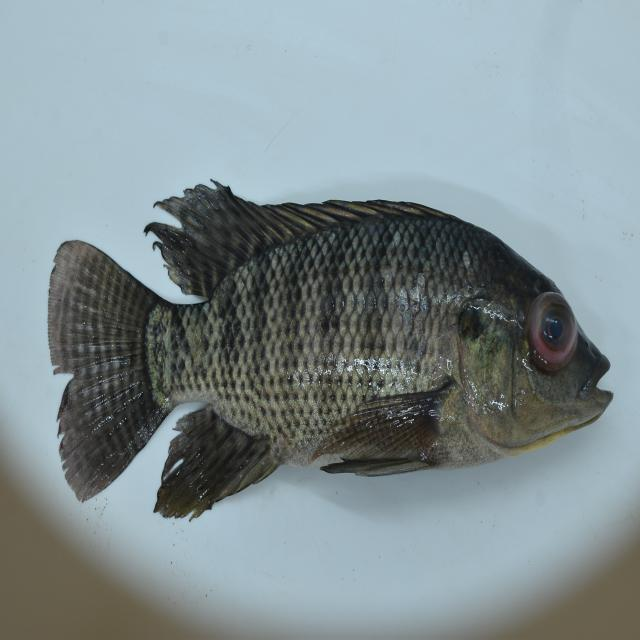streptococcus Disease: (42, 178, 628, 526)
